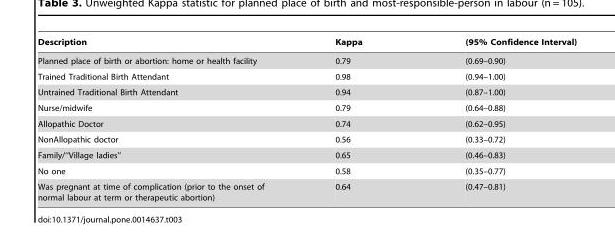table: (37, 37, 576, 201)
table column: (37, 37, 299, 201), (413, 37, 576, 201), (299, 37, 413, 201)
table column header: (37, 37, 576, 51)
table row: (37, 178, 576, 201), (37, 51, 576, 68), (37, 68, 576, 84), (37, 99, 576, 115), (37, 115, 576, 131), (37, 131, 576, 147), (37, 162, 576, 178), (37, 84, 576, 99), (37, 147, 576, 162), (37, 37, 576, 51)
